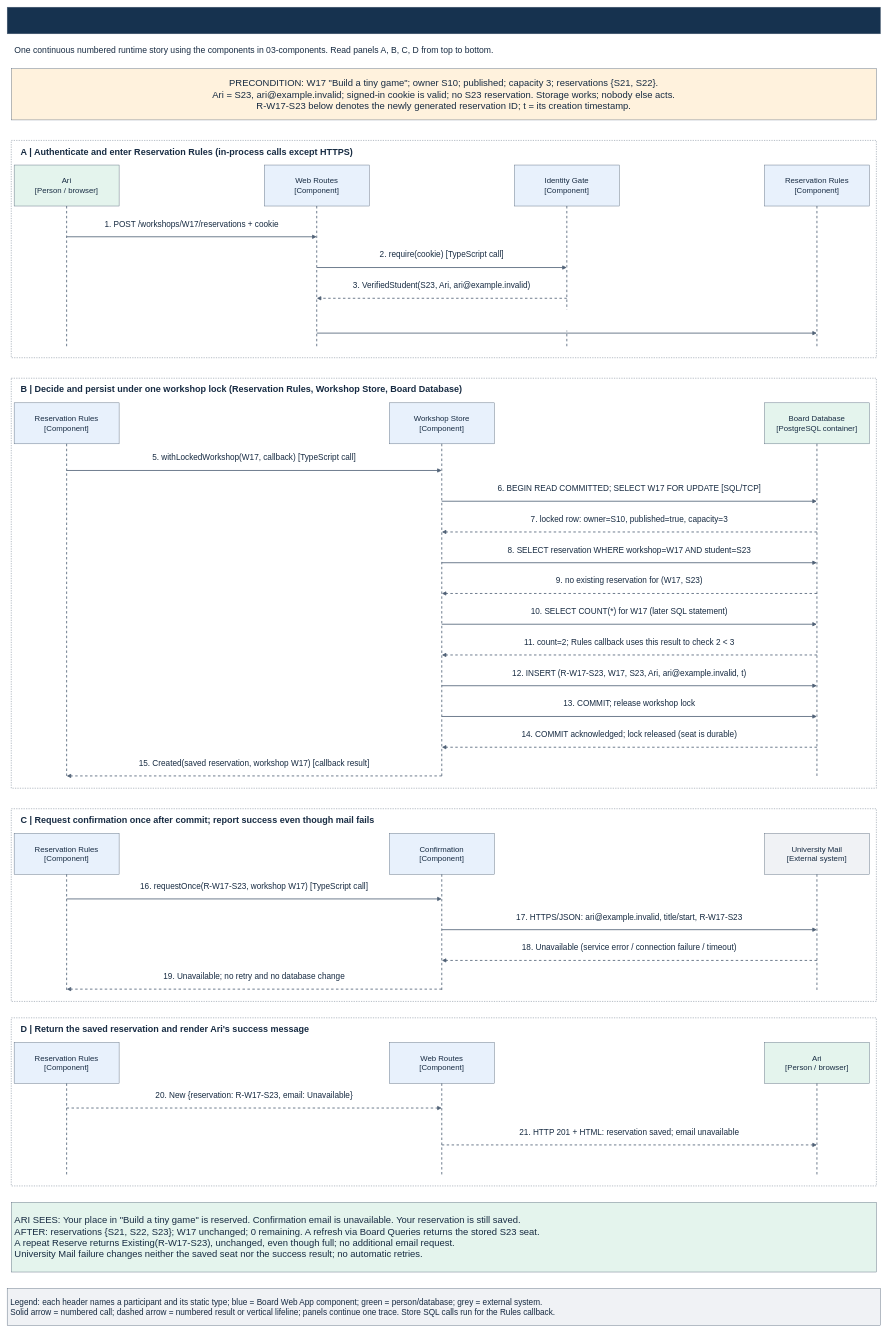
This 888x1333 diagram has some shape labels left out. Each missing label, with the box of its shape:
05 | Dynamic - Ari reserves the final seat; mail is unavailable: (7, 7, 880, 34)
4. reserve(VerifiedStudent, W17) [TypeScript call]: (322, 309, 811, 330)
